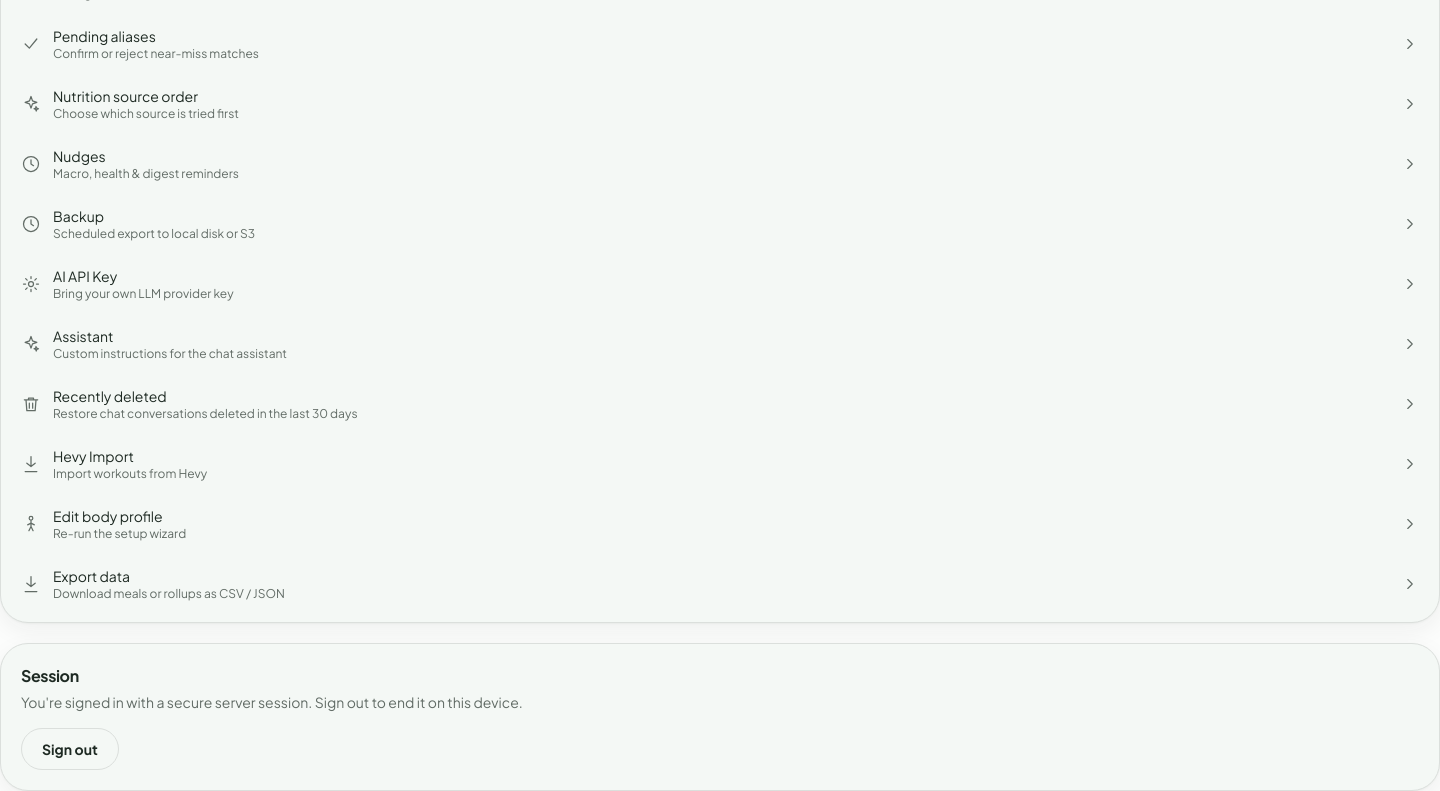
Scenario: export data button opens the export modal
The width and height of the screenshot is (1440, 791).
(page scrolled)
Click the button "Export data Download meals or rollups as CSV / JSON".
click(91, 576)  # box [9,554,1431,614]
(page scrolled)
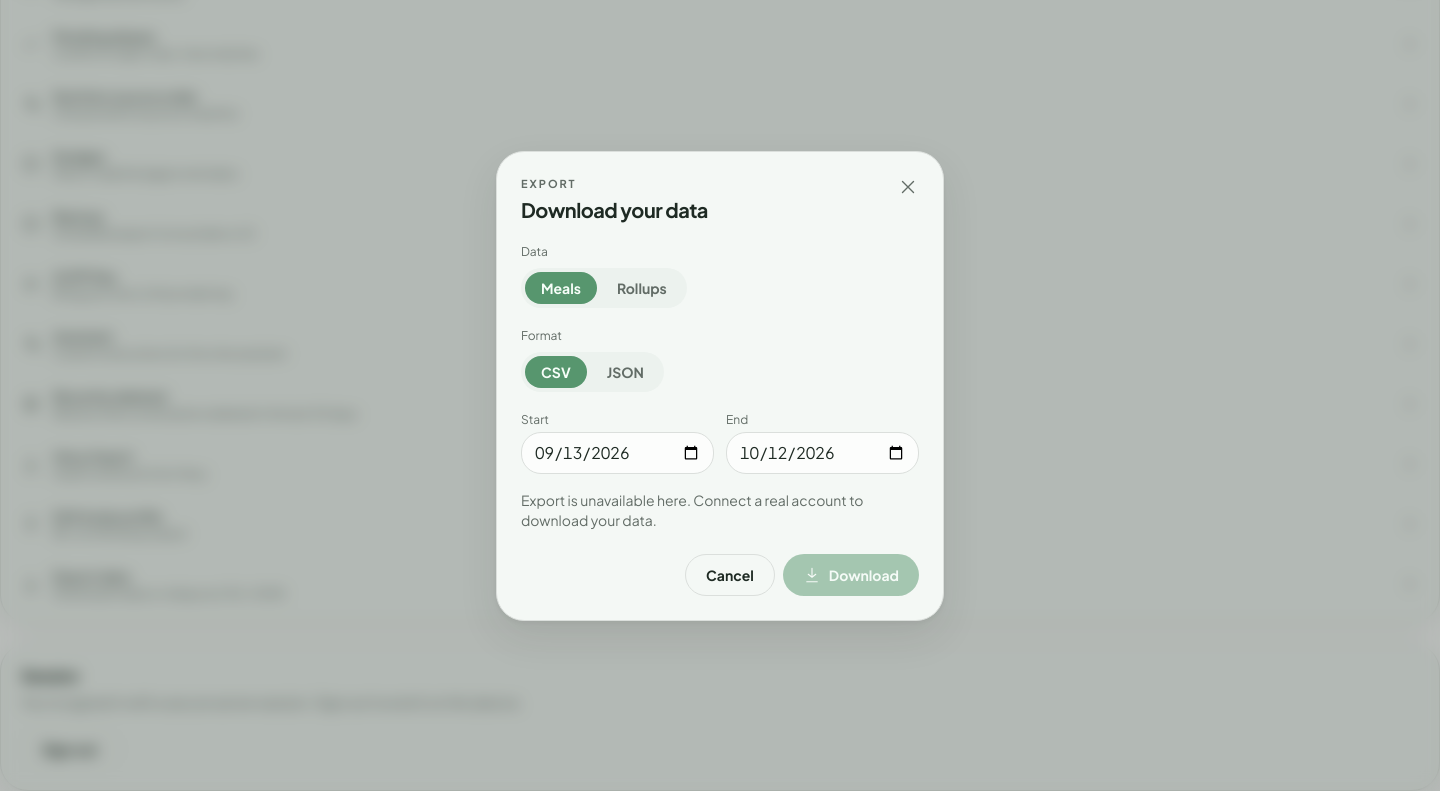
Result: the heading "Download your data" is shown at [521,196,708,224]
Closing hands control back to Settings (onClose flips exporting off).
Click the button named "Close".
click(908, 187)  # box [897,176,919,198]
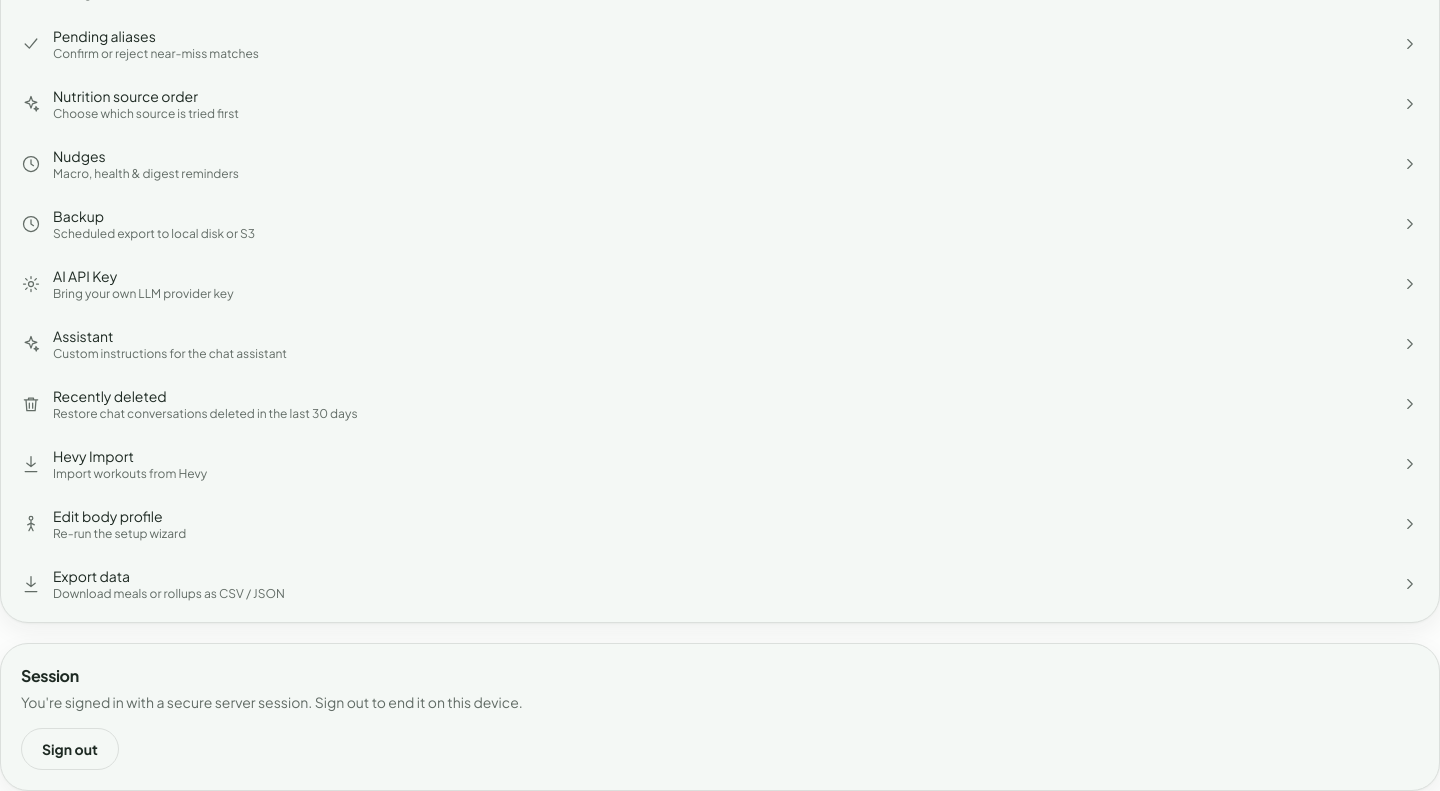
Result: the heading "Download your data" is gone
